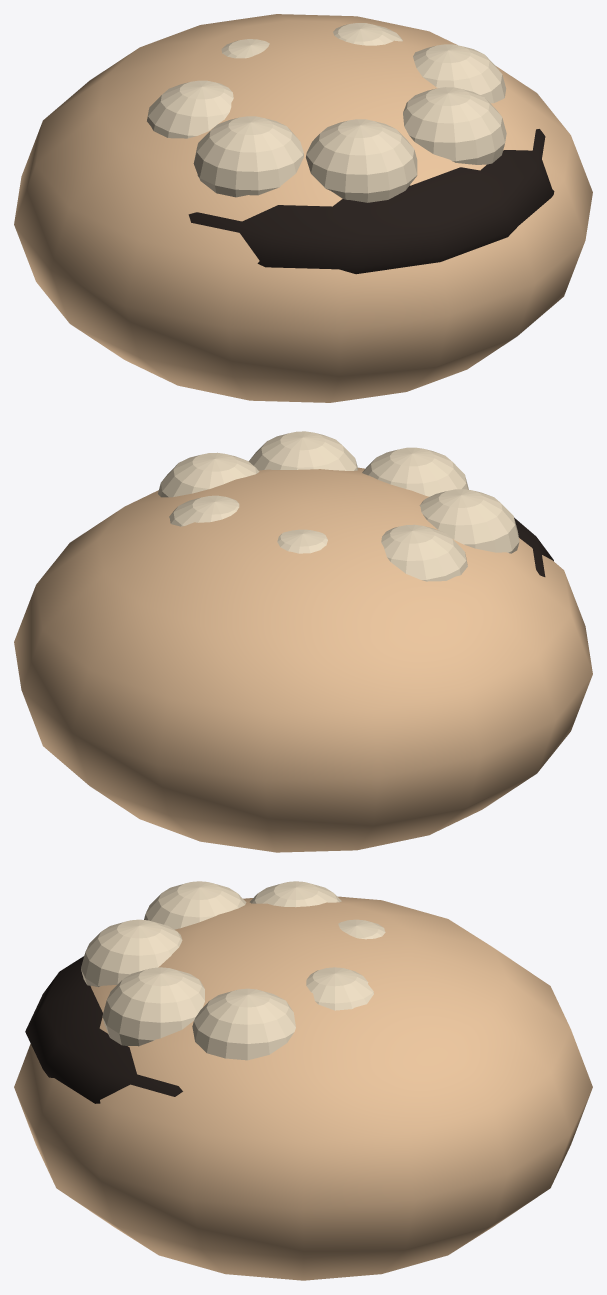
Rendered from PR3D_Environment_Bowl.fbx.
3 views of the same model, one above another, from view 1: azimuth 30°, elevation 25°; view 2: azimuth 150°, elevation 25°; view 3: azimuth 270°, elevation 25° (orthographic).
Visible parts, largest first — view 1: Visual_Bowl, Visual_Batched_Mushroom, Visual_BowlInset; view 2: Visual_Bowl, Visual_Batched_Mushroom, Visual_BowlInset; view 3: Visual_Bowl, Visual_Batched_Mushroom, Visual_BowlInset.
Part boxes in pixels (left/top/right/bottom): Visual_Bowl: left=14, top=14, right=592, bottom=402; Visual_Batched_Mushroom: left=147, top=23, right=506, bottom=202; Visual_BowlInset: left=188, top=129, right=554, bottom=274; Visual_Bowl: left=14, top=467, right=592, bottom=852; Visual_Batched_Mushroom: left=158, top=431, right=519, bottom=581; Visual_BowlInset: left=514, top=517, right=553, bottom=576; Visual_Bowl: left=14, top=896, right=592, bottom=1280; Visual_Batched_Mushroom: left=81, top=881, right=385, bottom=1060; Visual_BowlInset: left=25, top=956, right=182, bottom=1103.
Bounding box in the file's own units: 1.04 × 0.6 × 1.04.
